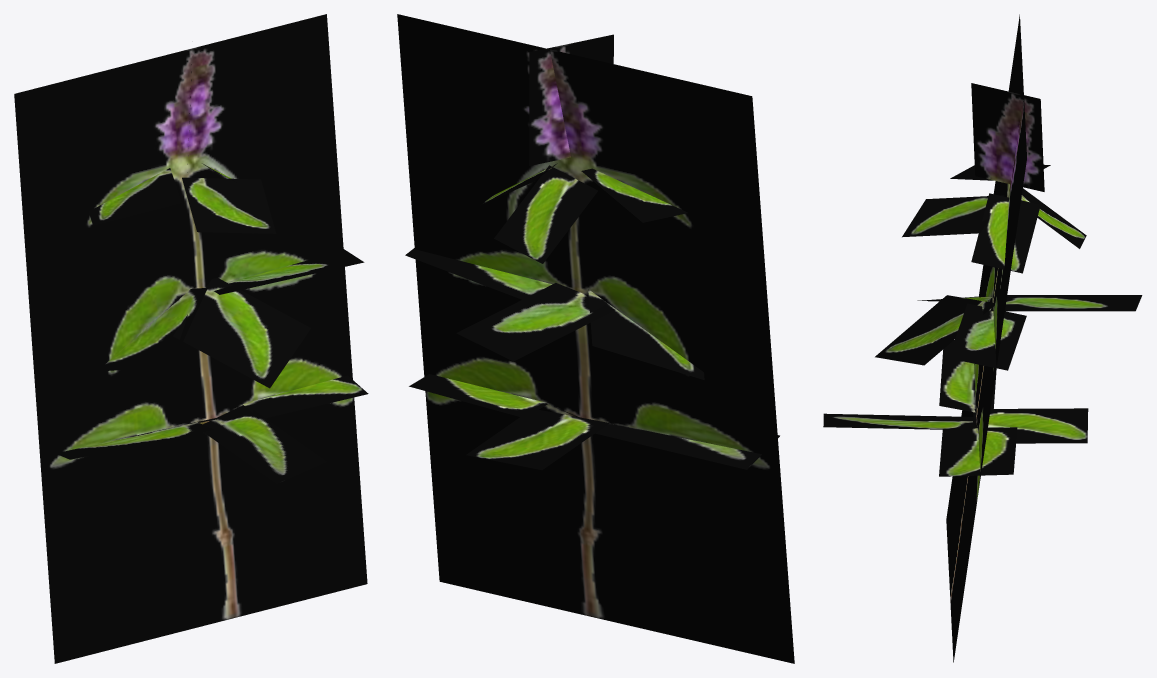
Rendered from 12_Prunella_vulgaris_big_001.fbx.
3 renders of one model, left to right at view 1: azimuth 30°, elevation 25°; view 2: azimuth 150°, elevation 25°; view 3: azimuth 270°, elevation 25°, orthographic. The views are drawn at different scales.
Visible parts, largest first — view 1: 12_Prunella_vulgaris_big.001; view 2: 12_Prunella_vulgaris_big.001; view 3: 12_Prunella_vulgaris_big.001.
Boxes of the visible parts, x1=… form: 12_Prunella_vulgaris_big.001: x1=14, y1=14, x2=368, y2=663; 12_Prunella_vulgaris_big.001: x1=397, y1=14, x2=794, y2=663; 12_Prunella_vulgaris_big.001: x1=823, y1=14, x2=1142, y2=662.
Bounding box in the file's own units: 0.1391 × 0.2258 × 0.1288.
